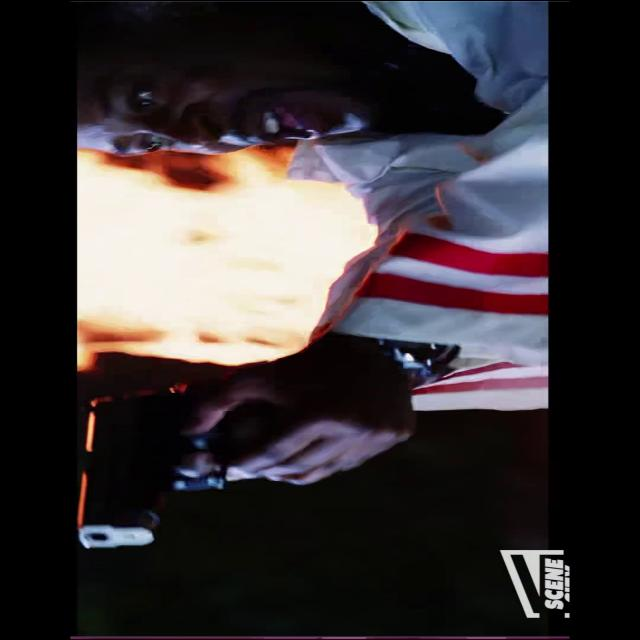weapons: (76, 364, 322, 554)
